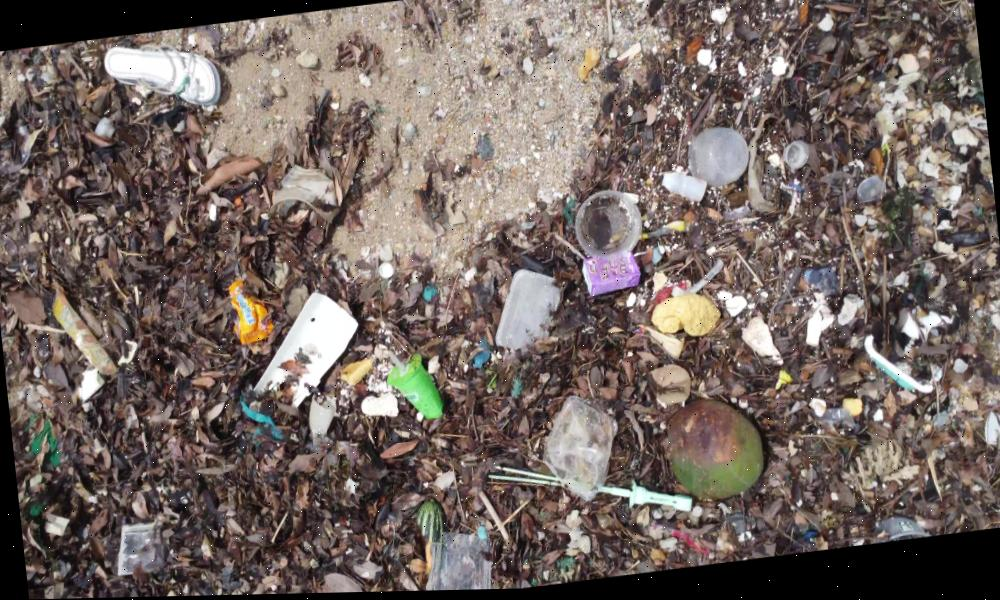carton: (222, 275, 274, 350), (582, 256, 645, 295)
plastic container: (569, 186, 644, 268), (681, 124, 756, 200), (379, 346, 446, 429), (111, 513, 171, 598), (425, 528, 501, 593)
